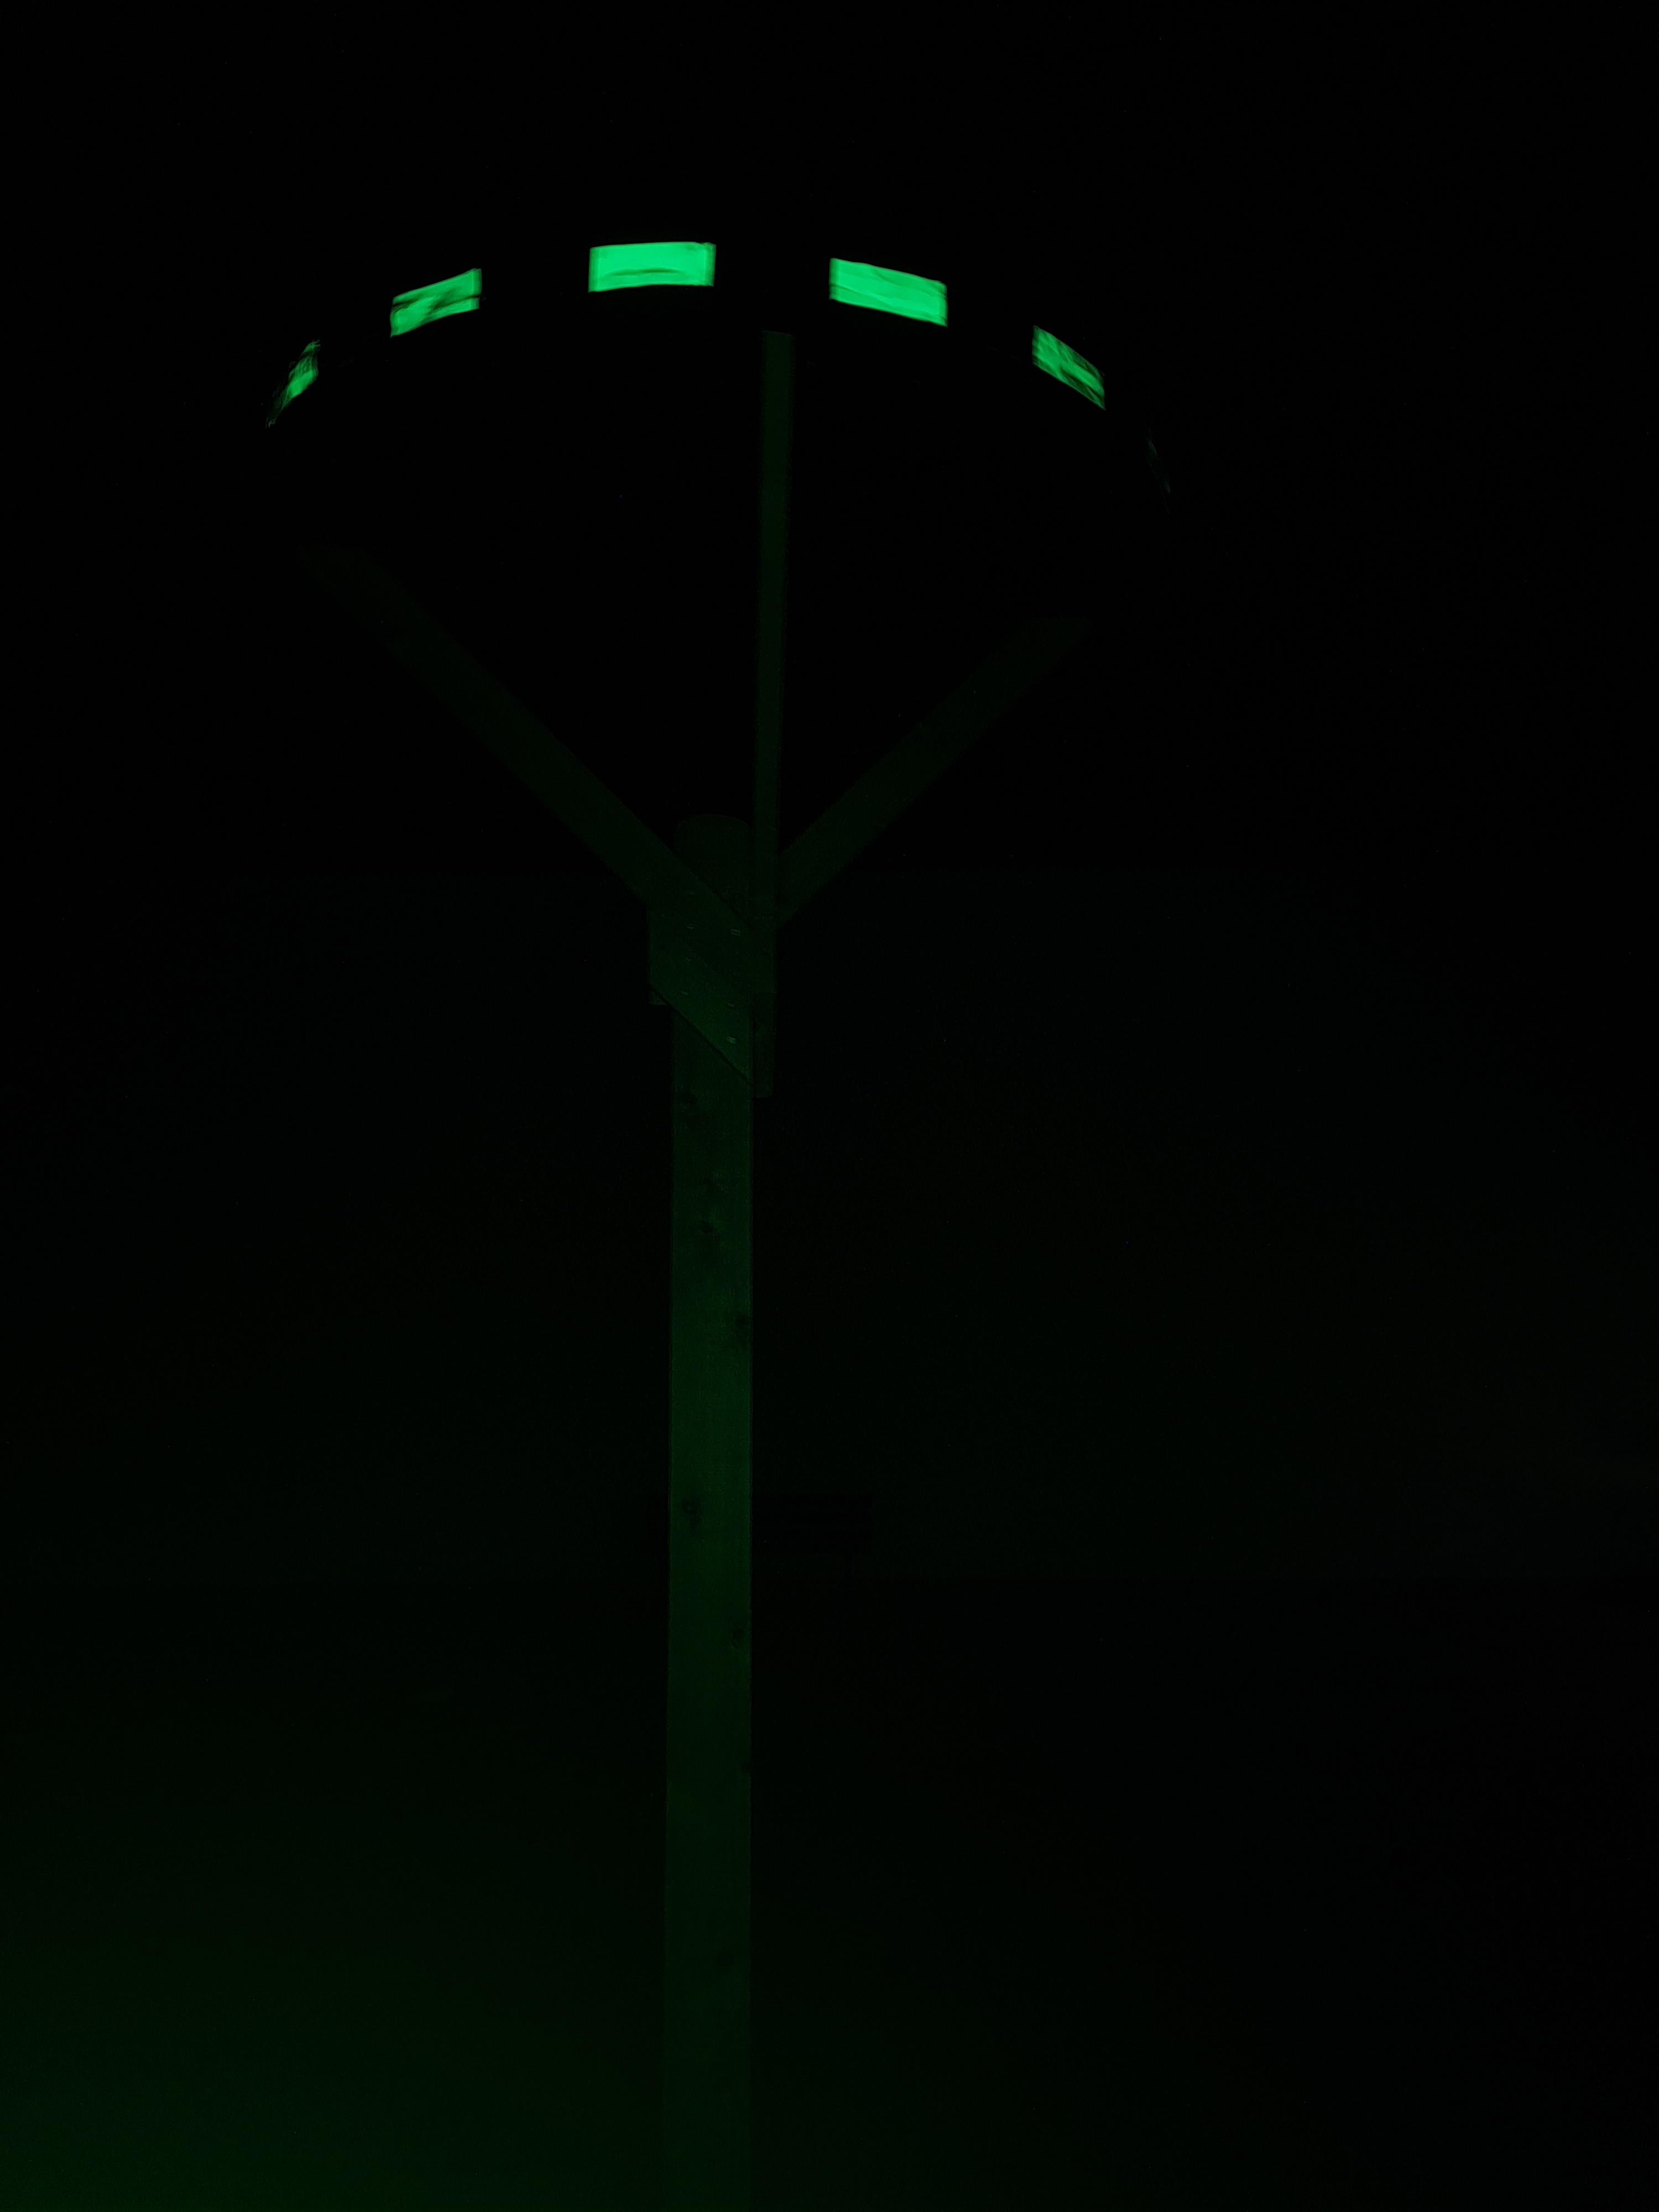hoop: (277, 237, 1107, 413)
